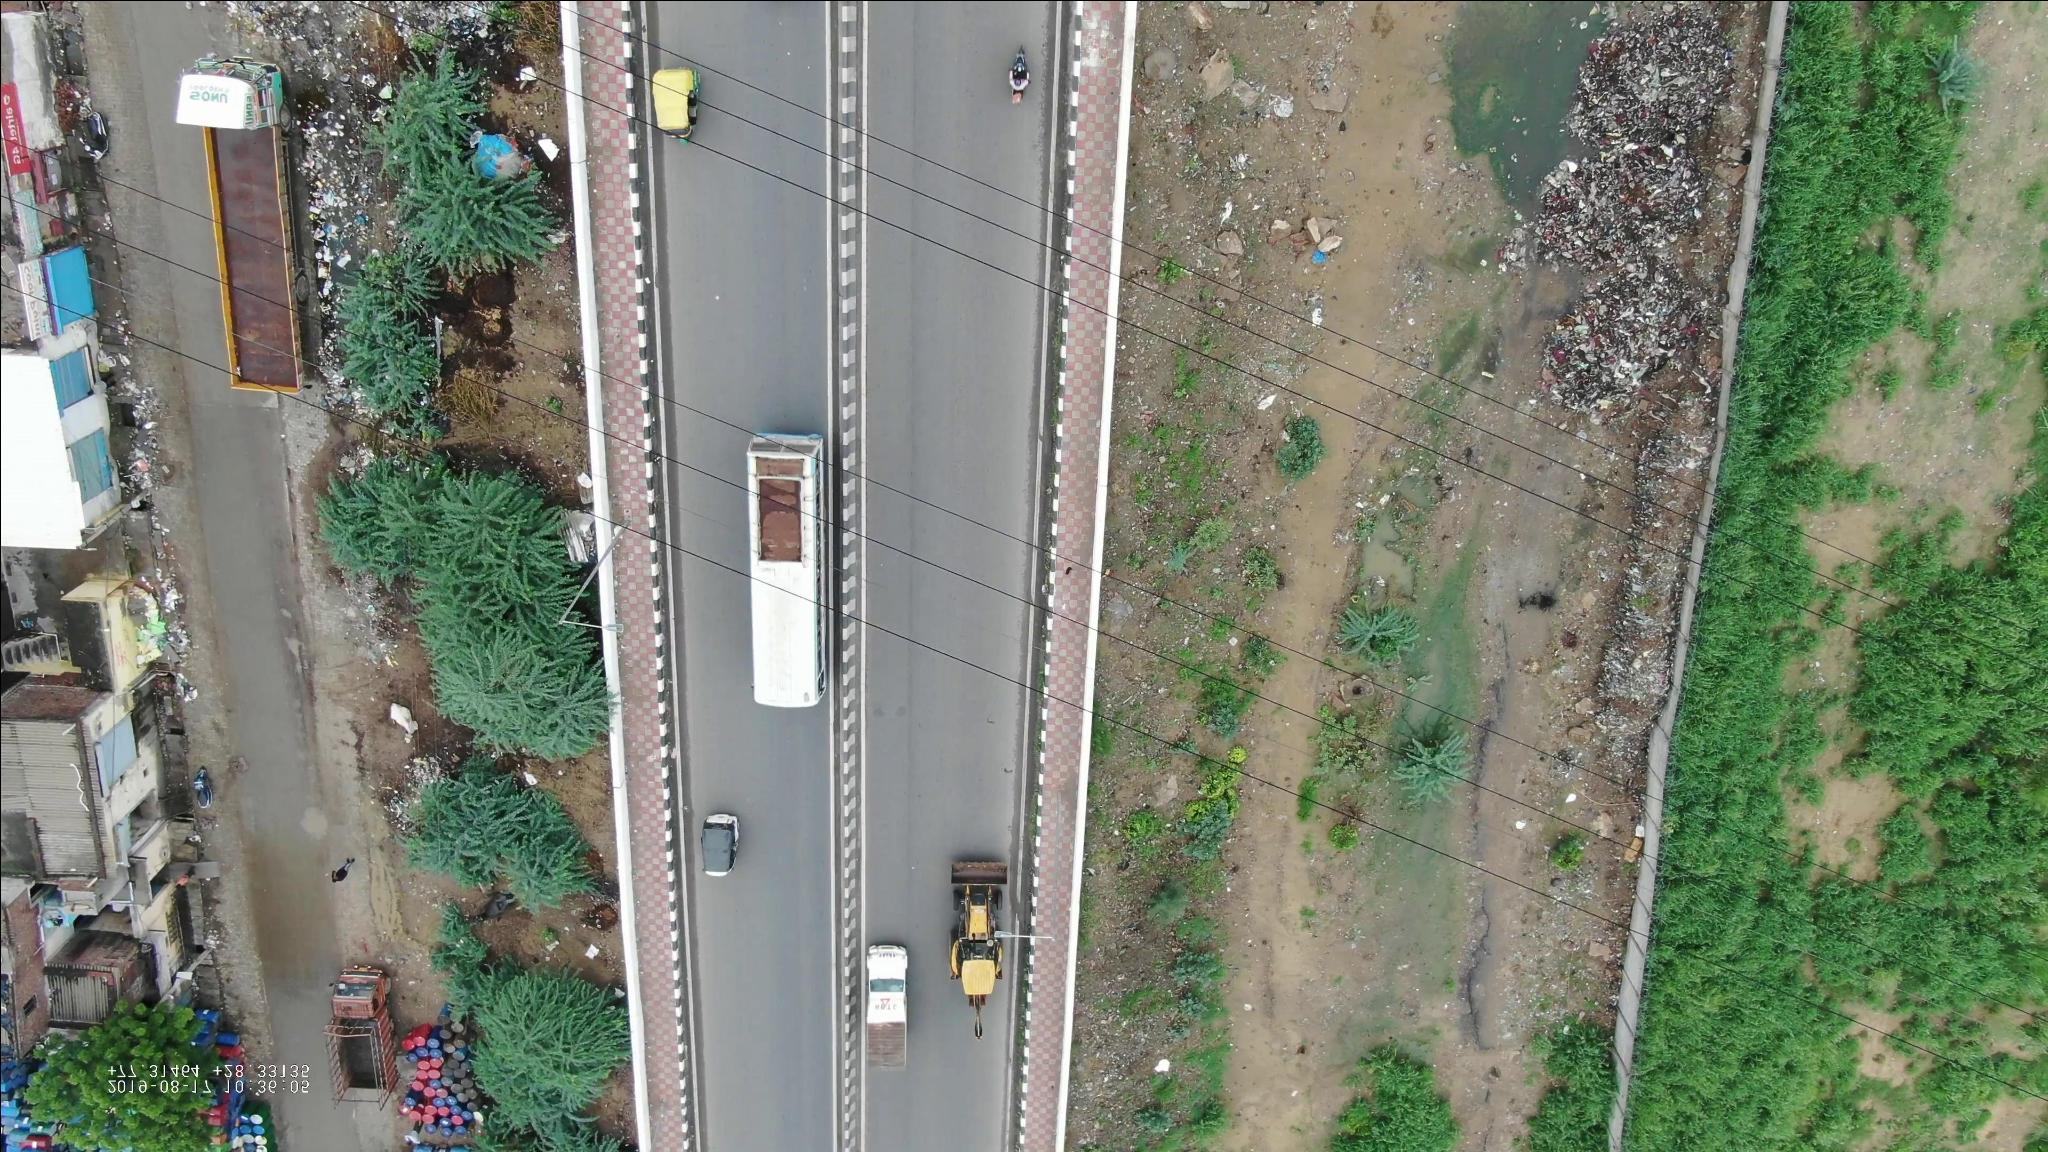Road_side_garbage: (1522, 3, 1727, 437), (1595, 454, 1694, 753)
